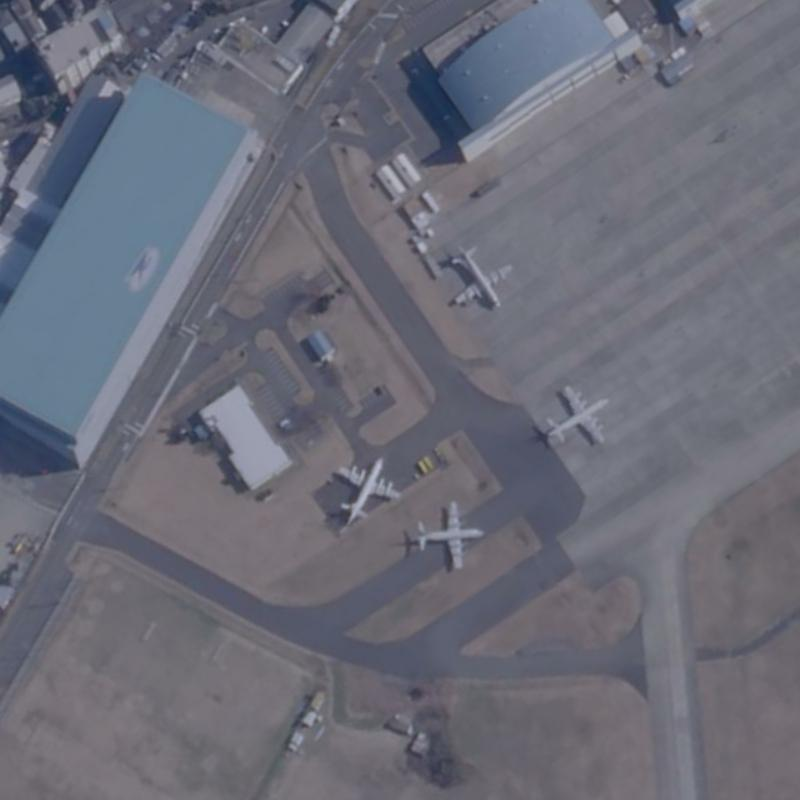A9: (405, 494, 490, 575), (325, 449, 403, 531), (539, 378, 614, 450), (444, 239, 517, 312)
